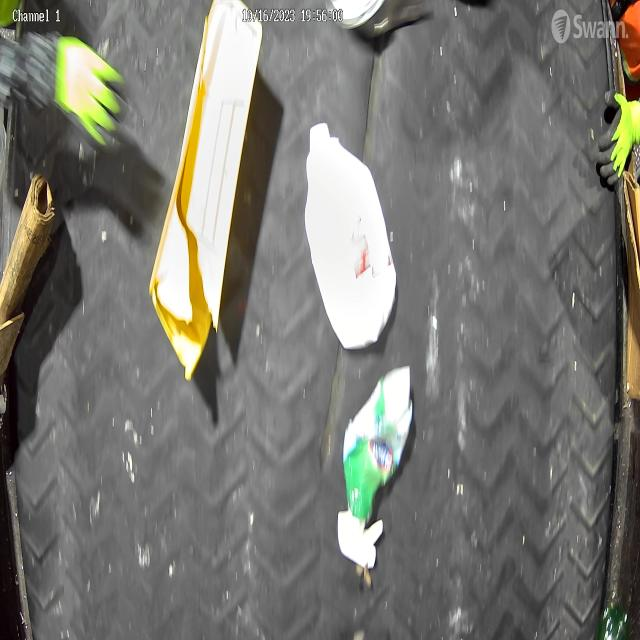milk_jug: (302, 120, 400, 359)
